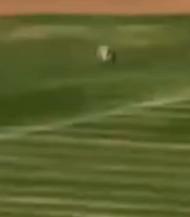ball: (94, 42, 122, 69)
